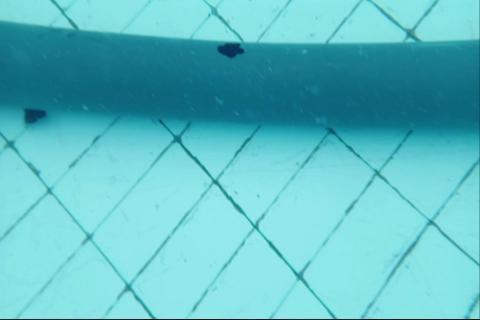kebocoran: (217, 42, 246, 59)
